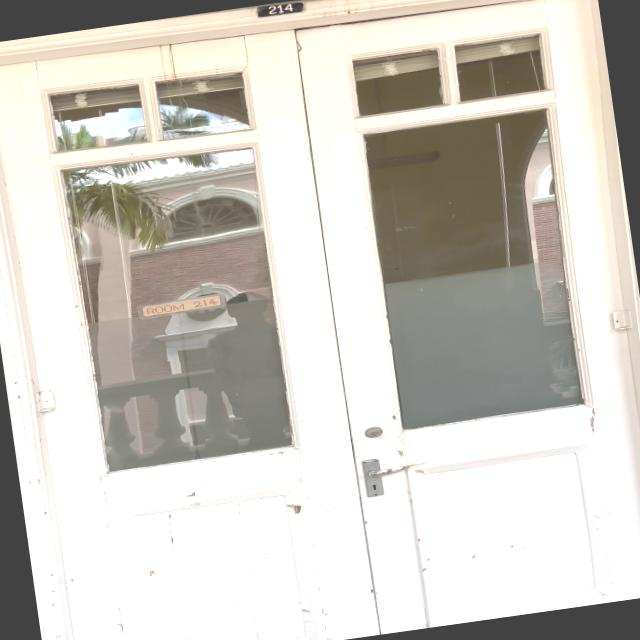room214: (256, 0, 309, 19)
room214Window: (131, 290, 229, 322)
